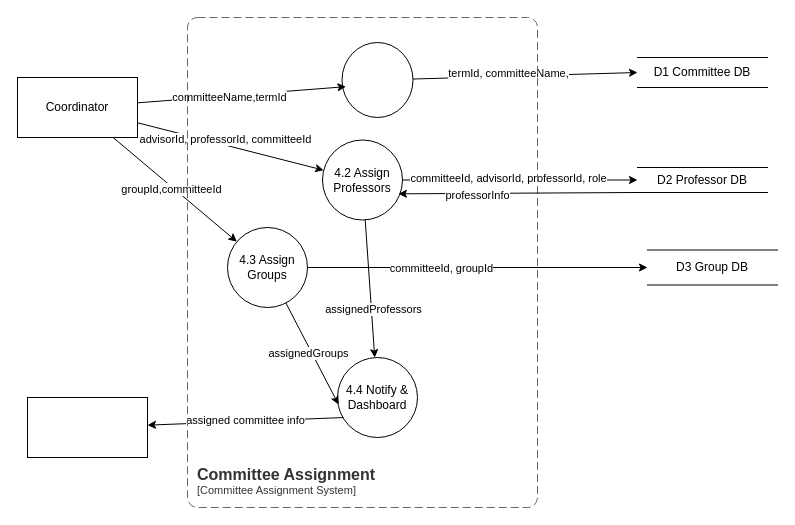
This 795x525 diagram has some shape labels left out. Here are the shapes that lost their labels. From the top down, the box of each, then its label:
(341, 42, 413, 118): 4.1 Create Committee
(26, 396, 148, 458): Professor
